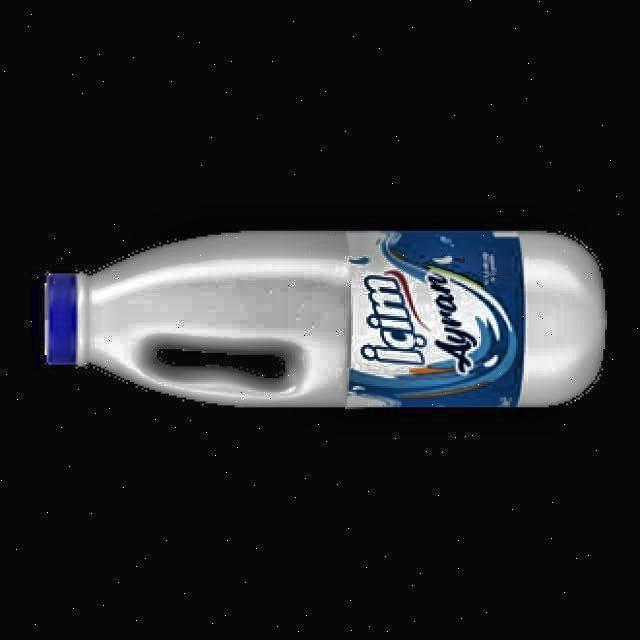plastic: (45, 231, 606, 407)
